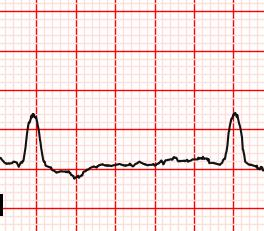T inversion: (60, 162, 96, 183)
